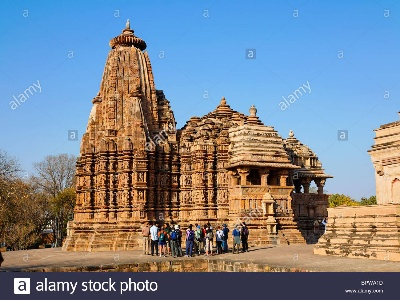amalaka: (102, 30, 152, 55)
gopuram: (88, 47, 162, 126)
mandapa: (221, 151, 298, 190), (285, 168, 335, 204)
